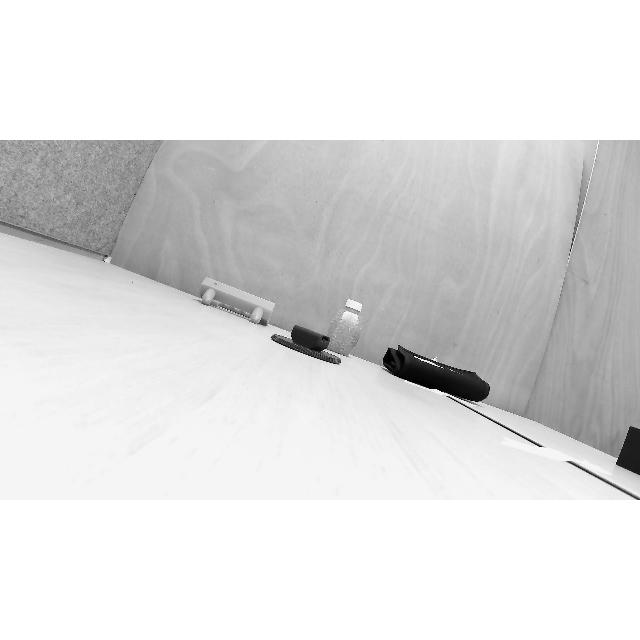targets: (386, 342, 494, 398), (198, 276, 280, 324), (271, 321, 341, 369), (330, 296, 364, 362), (612, 422, 640, 478)
